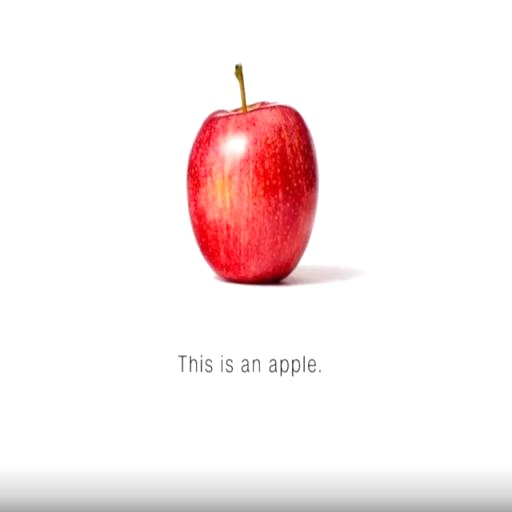fruit: (188, 65, 317, 282)
